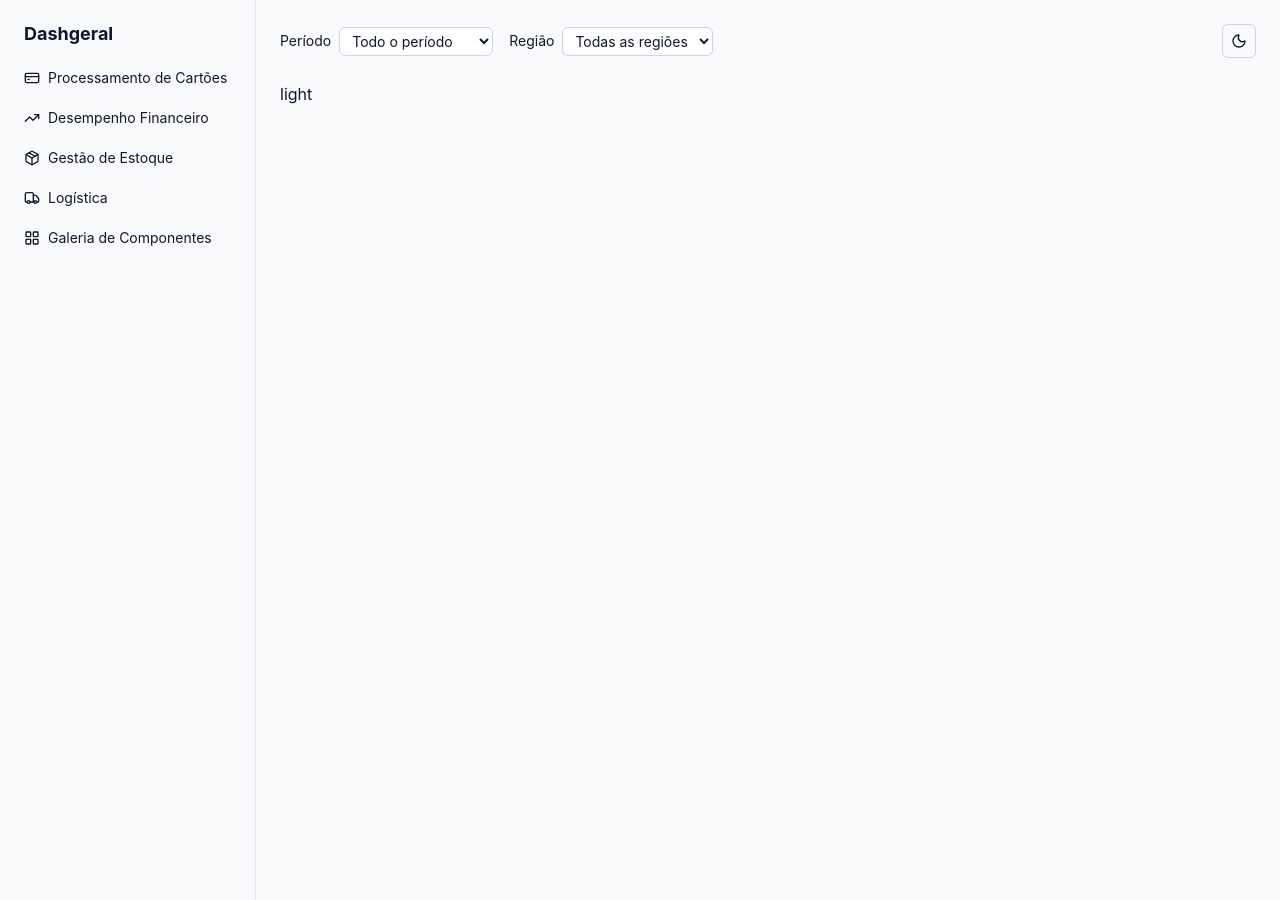
Test case: AppLayout › shares the theme state with descendants through the context
Expected: the text with test id "probe" reads "light", 280,84 -> 312,104
Click the button named "tema": coordinates (1239, 41) 1222,24 -> 1256,58
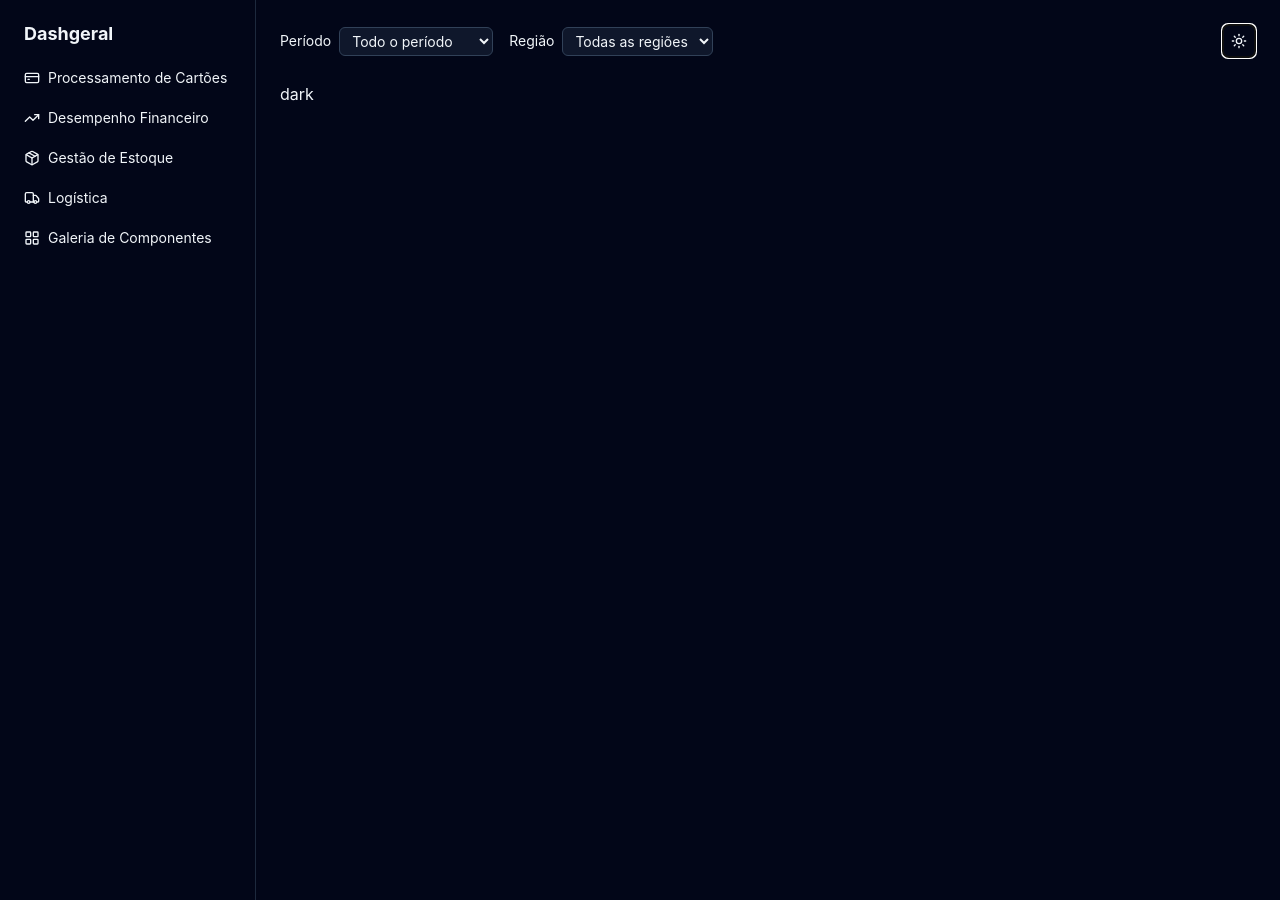
Now the text with test id "probe" reads "dark", box 280,84 -> 314,104
